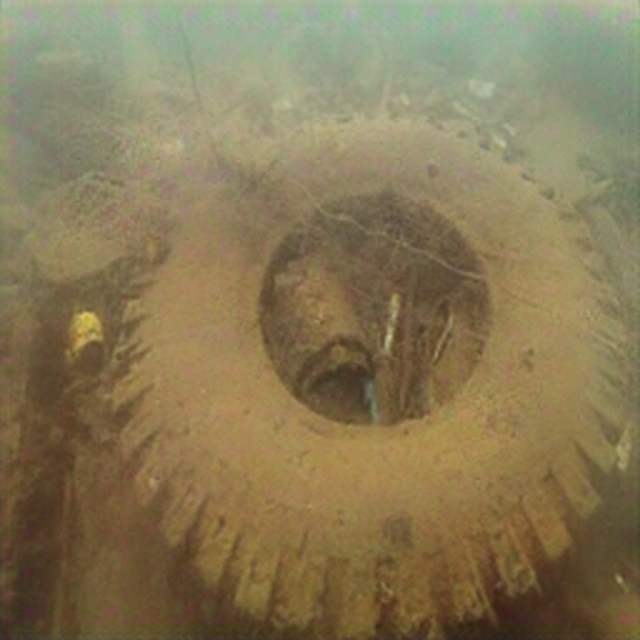mine: (111, 112, 639, 639)
